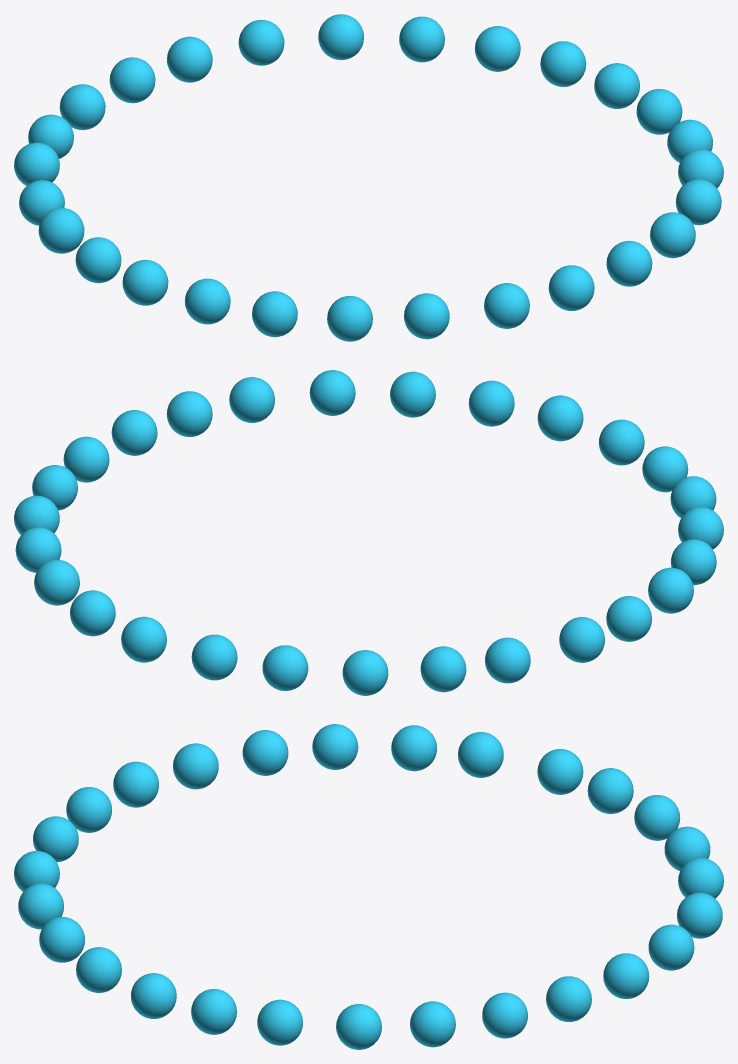
The picture shows the model from 3 angles, top to bottom: view 1: azimuth 30°, elevation 25°; view 2: azimuth 150°, elevation 25°; view 3: azimuth 270°, elevation 25°; orthographic projection.
Visible parts, largest first — view 1: Sphere048; view 2: Sphere048; view 3: Sphere048.
Part boxes in pixels (x1=…): Sphere048: x1=14, y1=14, x2=723, y2=341; Sphere048: x1=14, y1=370, x2=723, y2=695; Sphere048: x1=14, y1=724, x2=723, y2=1049.
Size of the model in its own units: 126 by 8.22 by 127.
